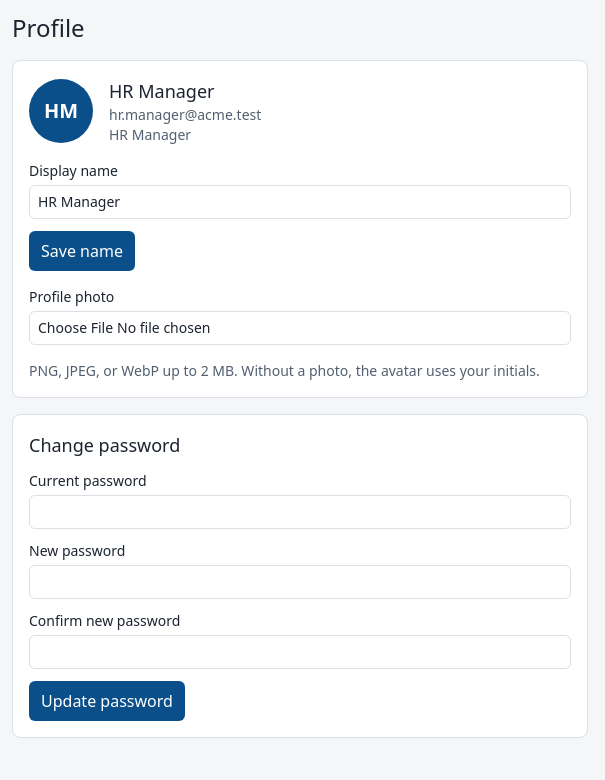
it: ProfilePage › shows initials from the display name and checks the password confirmation
Check: the field showing "HR Manager" is shown, box [29, 185, 571, 219]
Check: the text "HM" is shown, box [29, 79, 93, 143]
Type "Password123!" into the password field labelled "Current password".
click(300, 512); type("Password123!")  # box [29, 495, 571, 529]
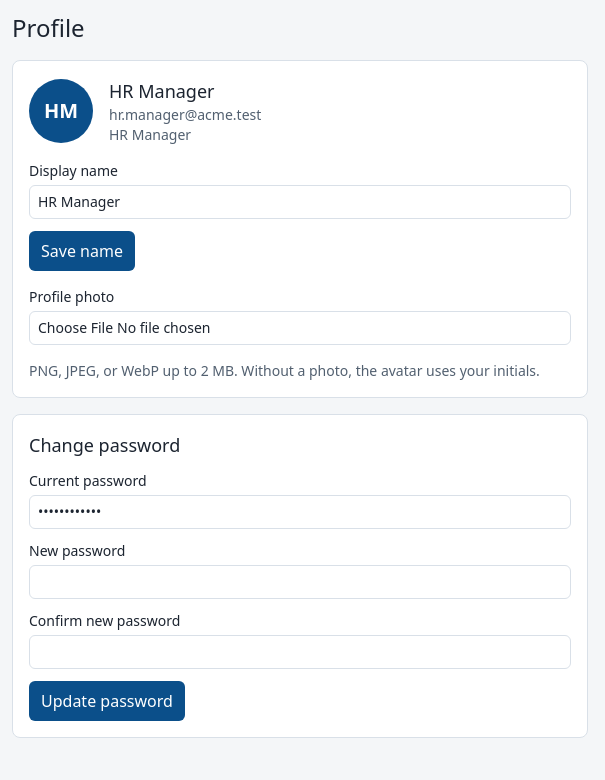
Type "anotherpass" into the password field labelled "New password".
click(300, 582); type("anotherpass")  # box [29, 565, 571, 599]
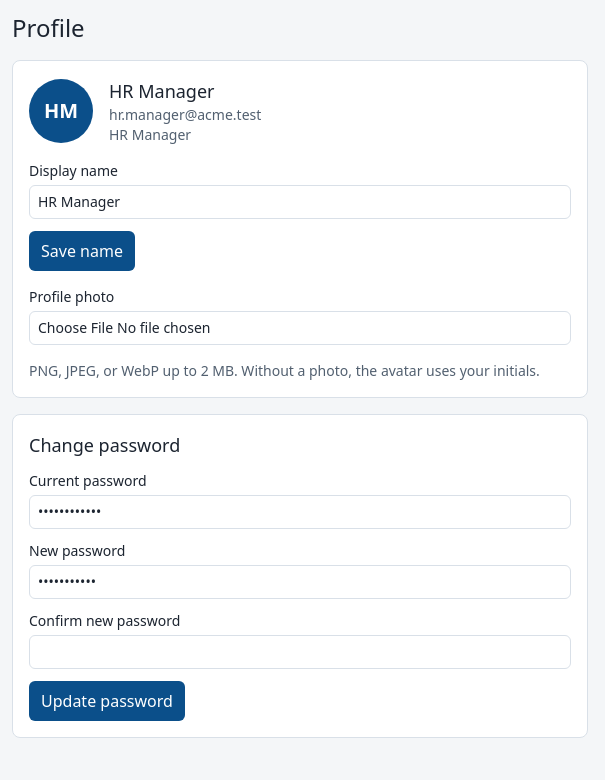
Type "different" into the password field labelled "Confirm new password".
click(300, 652); type("different")  # box [29, 635, 571, 669]
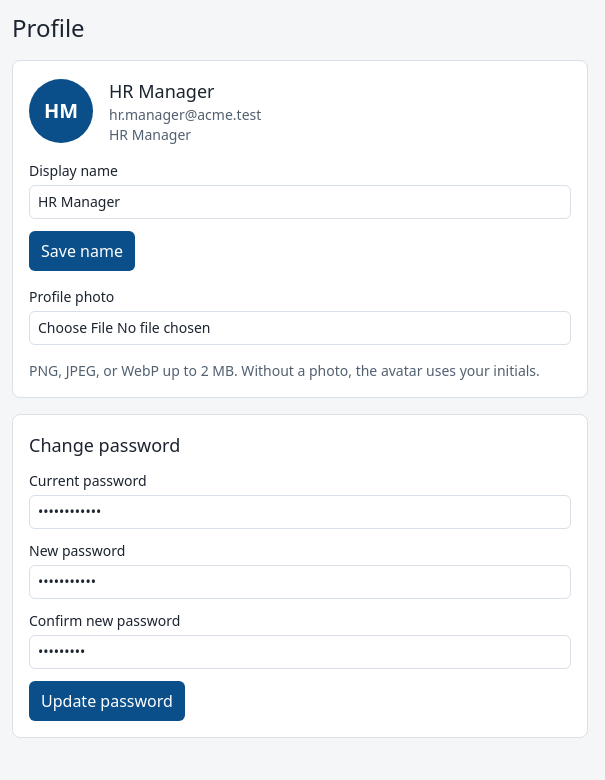
Click the button "Update password".
click(107, 701)  # box [29, 681, 185, 721]
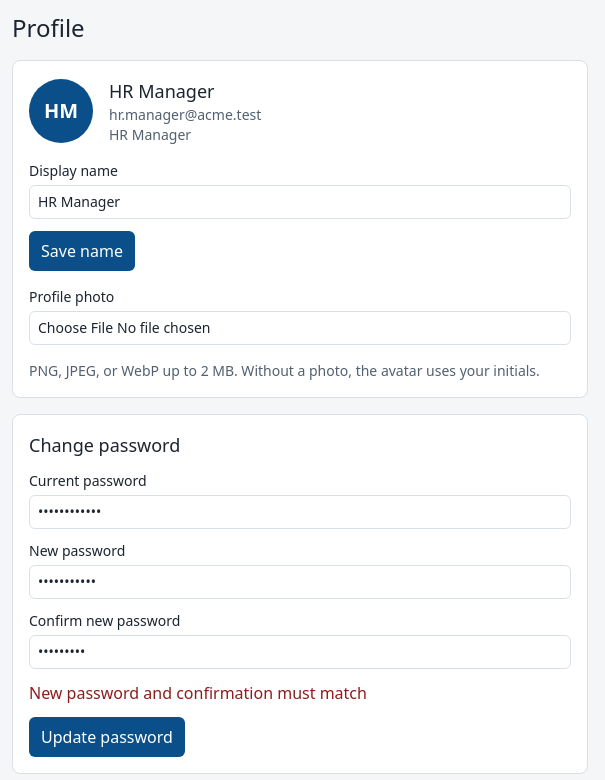
Check: the text "New password and confirmation must match" is shown, box [29, 682, 367, 704]
